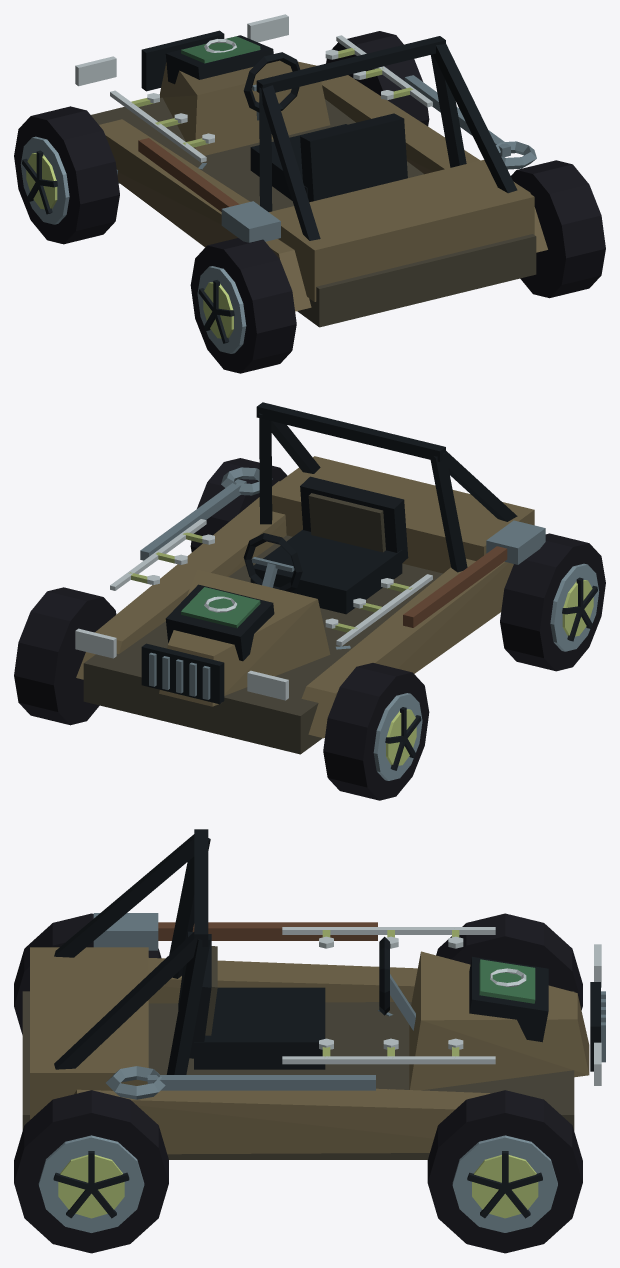
The model's file is kart.glb.
3 views of the same model, one above another, from view 1: azimuth 30°, elevation 25°; view 2: azimuth 150°, elevation 25°; view 3: azimuth 270°, elevation 25° (orthographic). The views are drawn at different scales.
Parts seen in each view (by area): view 1: identity-buggy-buggy-offroad-frame, wheel-front-left, wheel-rear-left, identity-buggy-driver-cockpit, wheel-rear-right, identity-buggy-motif-tools, identity-buggy-motif-scanner, identity-buggy-motif-circuit, wheel-front-right; view 2: identity-buggy-buggy-offroad-frame, identity-buggy-driver-cockpit, wheel-front-left, wheel-rear-left, wheel-front-right, identity-buggy-motif-tools, identity-buggy-motif-scanner, identity-buggy-motif-circuit, wheel-rear-right; view 3: identity-buggy-buggy-offroad-frame, wheel-front-right, wheel-rear-right, identity-buggy-driver-cockpit, identity-buggy-motif-tools, wheel-front-left, identity-buggy-motif-scanner, identity-buggy-motif-circuit, wheel-rear-left.
Boxes of the visible parts, box(x1,y1,x2,y2) form: identity-buggy-buggy-offroad-frame: box(75, 14, 547, 327); wheel-front-left: box(14, 106, 119, 244); wheel-rear-left: box(190, 238, 296, 373); identity-buggy-driver-cockpit: box(243, 52, 407, 202); wheel-rear-right: box(511, 160, 605, 298); identity-buggy-motif-tools: box(138, 75, 536, 242); identity-buggy-motif-scanner: box(165, 35, 273, 84); identity-buggy-motif-circuit: box(110, 35, 432, 162); wheel-front-right: box(326, 31, 429, 126); identity-buggy-buggy-offroad-frame: box(75, 402, 534, 754); identity-buggy-driver-cockpit: box(243, 476, 408, 614); wheel-front-left: box(323, 663, 429, 800); wheel-rear-left: box(500, 533, 605, 671); wheel-front-right: box(14, 587, 116, 725); identity-buggy-motif-tools: box(140, 467, 545, 627); identity-buggy-motif-scanner: box(165, 584, 274, 661); identity-buggy-motif-circuit: box(110, 519, 432, 646); wheel-rear-right: box(190, 458, 287, 552); identity-buggy-buggy-offroad-frame: box(22, 829, 605, 1159); wheel-front-right: box(427, 1090, 582, 1253); wheel-rear-right: box(14, 1090, 168, 1253); identity-buggy-driver-cockpit: box(178, 931, 415, 1069); identity-buggy-motif-tools: box(93, 913, 377, 1099); wheel-front-left: box(436, 913, 582, 1010); identity-buggy-motif-scanner: box(469, 956, 548, 1042); identity-buggy-motif-circuit: box(282, 927, 495, 1064); wheel-rear-left: box(14, 913, 161, 1034).
Bounding box in the file's own units: 2.31 × 1.39 × 2.75.
